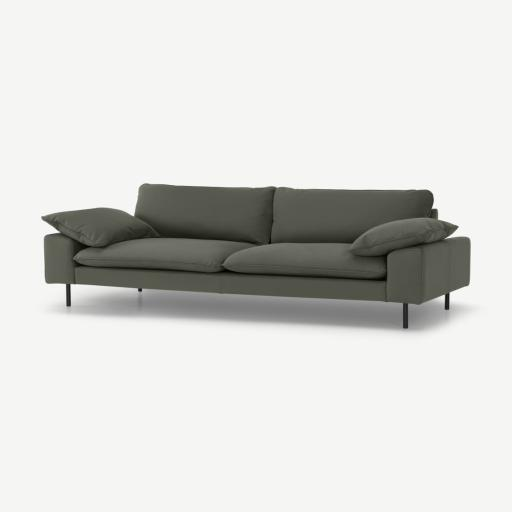back_cushion: (43, 184, 458, 256)
base: (74, 266, 385, 301)
left_arm: (387, 237, 470, 304)
legs: (403, 304, 408, 328), (66, 284, 71, 307), (444, 293, 449, 310), (138, 289, 141, 292)
right_arm: (44, 234, 85, 287)
seat_cushion: (74, 238, 387, 280)
two-seater: (0, 0, 511, 512)
